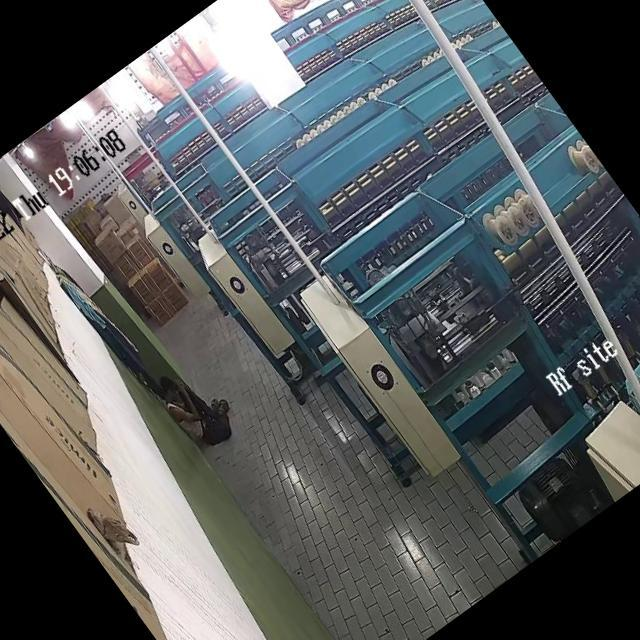person: (150, 354, 248, 461)
